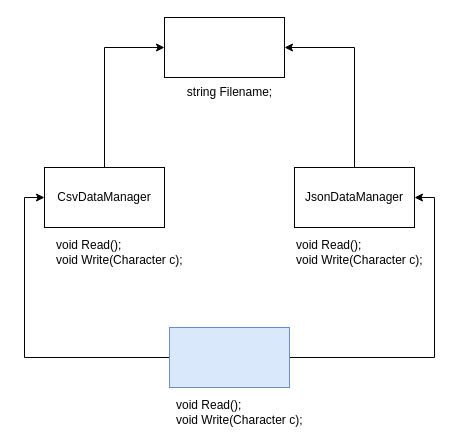
Image size: 472x445. Some labels were removed from this diagram. The shapes that lost their labels are listed below. From the top down, each one's centre as x and y in pixels, then its label:
At pixel 224 47: "DataManager".
At pixel 229 357: "IDataManager".
